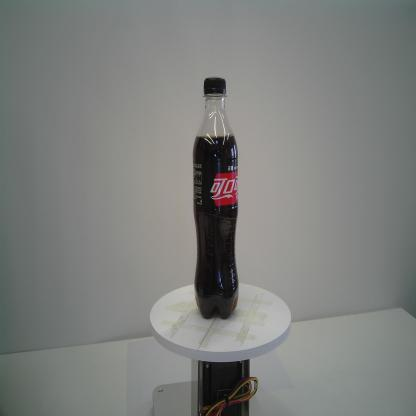Drink: (190, 73, 242, 322)
